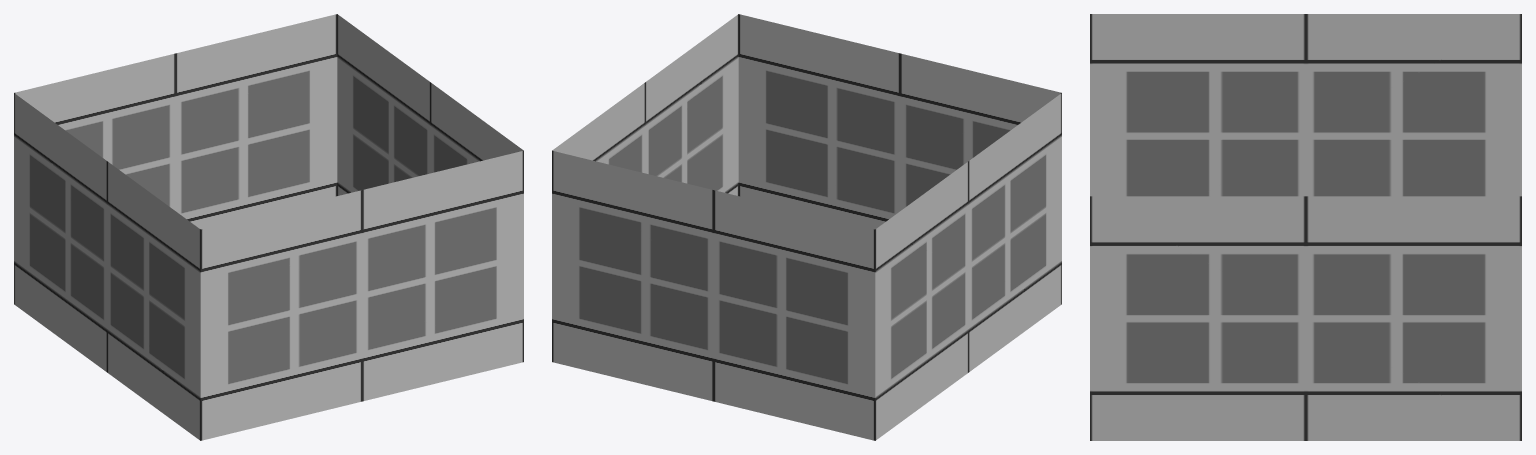
The model's file is highrise_1.glb.
The picture shows the model from 3 angles, left to right: view 1: azimuth 30°, elevation 25°; view 2: azimuth 150°, elevation 25°; view 3: azimuth 270°, elevation 25°; orthographic projection. The views are drawn at different scales.
Parts seen in each view (by area): view 1: Highrise.1; view 2: Highrise.1; view 3: Highrise.1.
Part boxes in pixels (box(x1,y1,x2,y2)): Highrise.1: box(14, 14, 523, 440); Highrise.1: box(552, 14, 1061, 440); Highrise.1: box(1090, 14, 1521, 440).
Bounding box in the file's own units: 0.4 × 0.25 × 0.4.
1 material, 1 textured.
